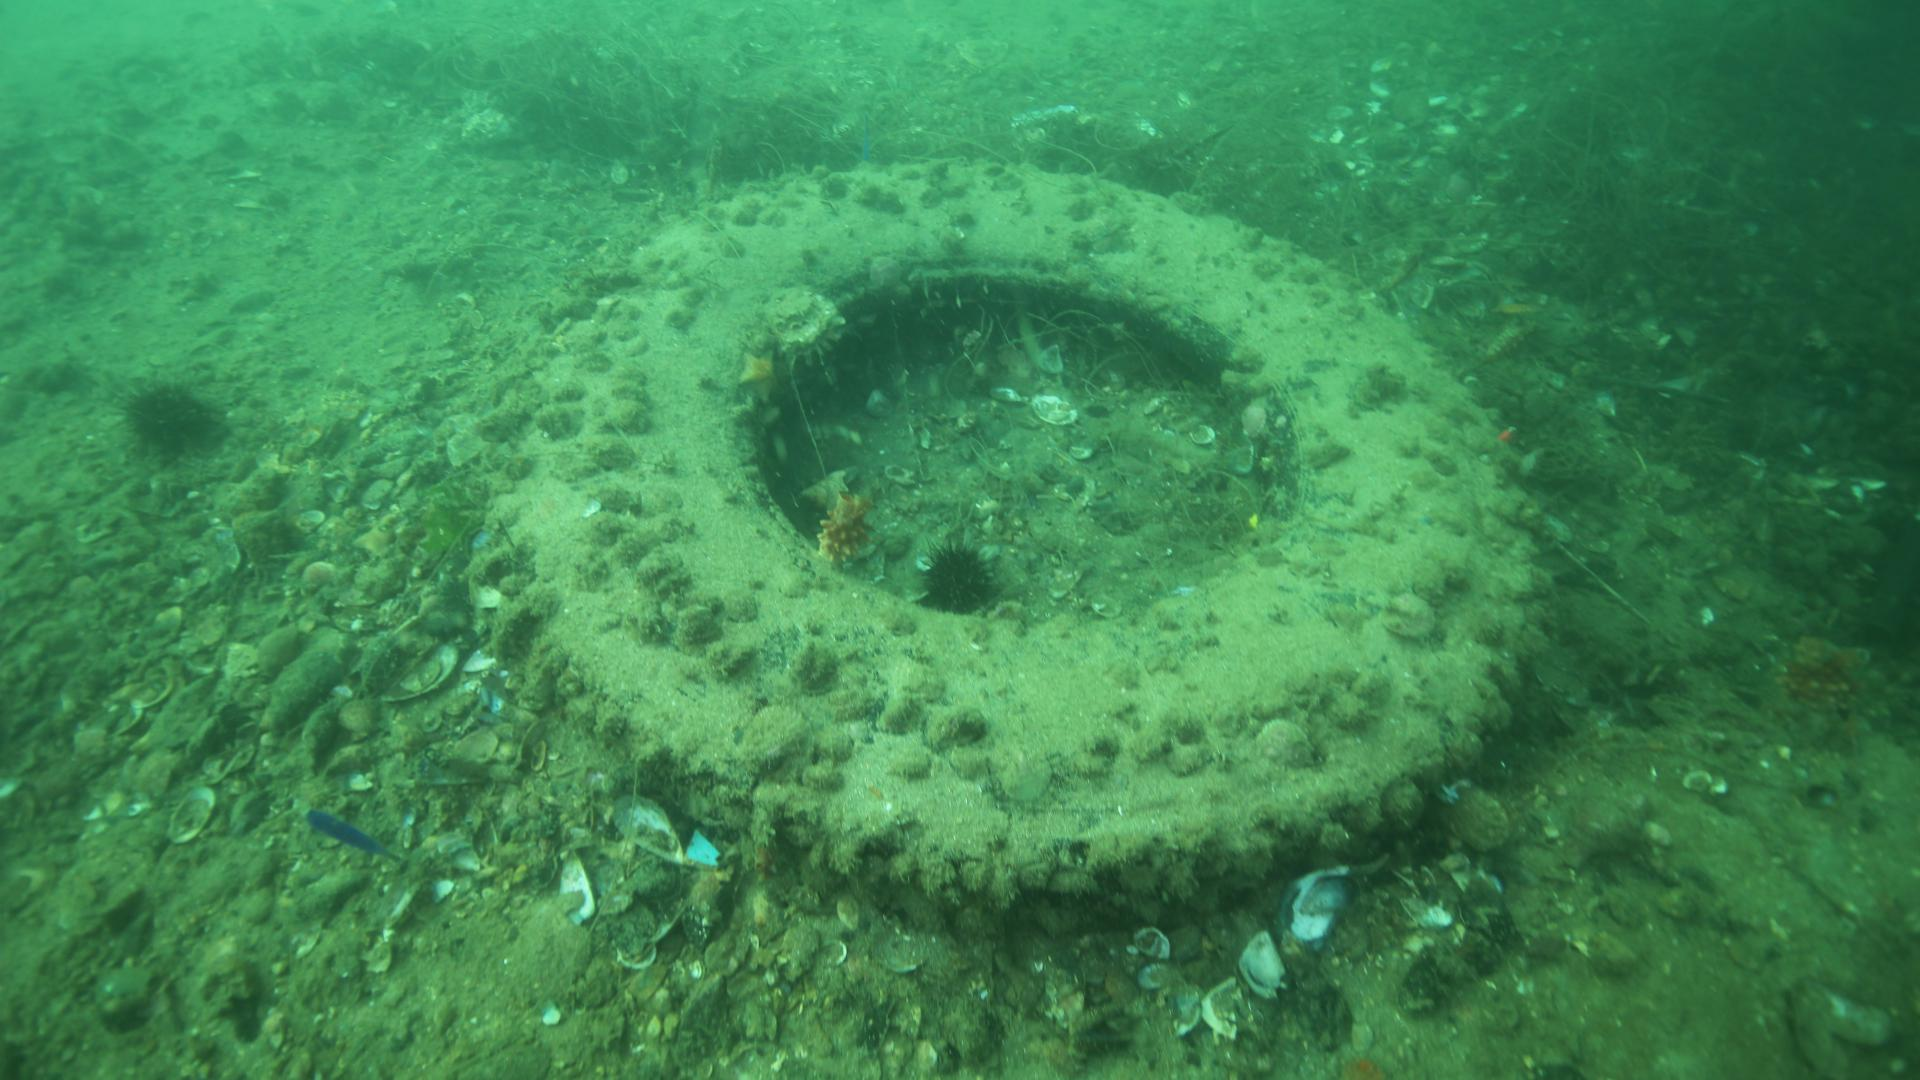tire: (508, 152, 1544, 919)
